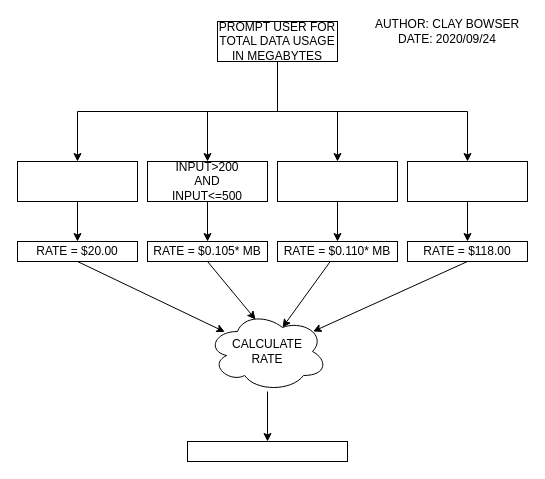
Image size: 545x479. Some labels were removed from this diagram. The centre of each missing label's shape, as x and y in pixels:
DISPLAY TOTAL TO USER: (x=267, y=451)
INPUT>0 AND INPUT<=200: (x=77, y=181)
INPUT>1000: (x=467, y=181)
INPUT>500 AND INPUT<=1000: (x=337, y=181)
